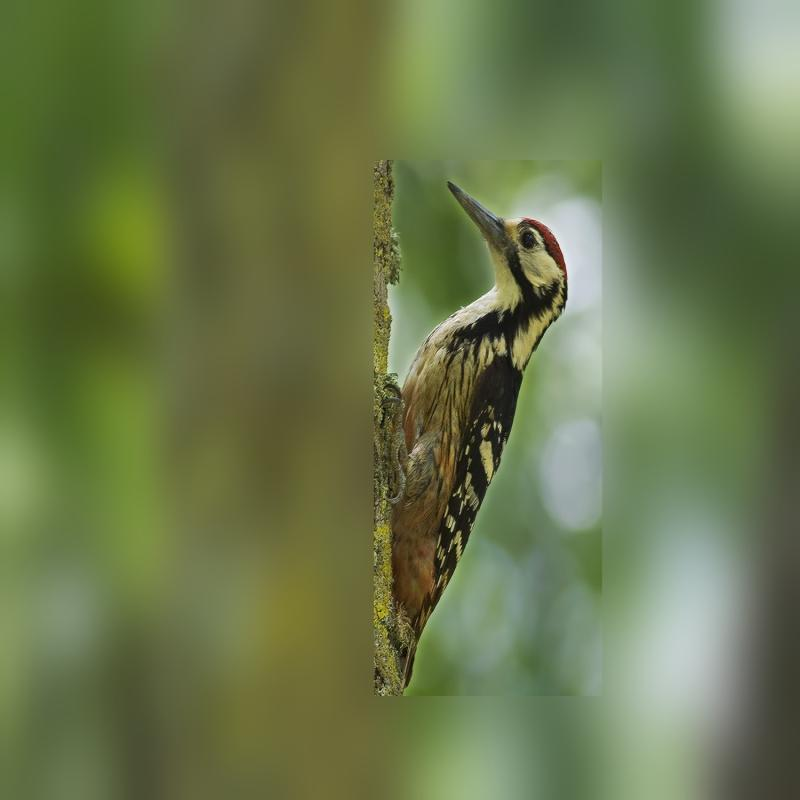white-backed woodpecker: (375, 174, 584, 692)
